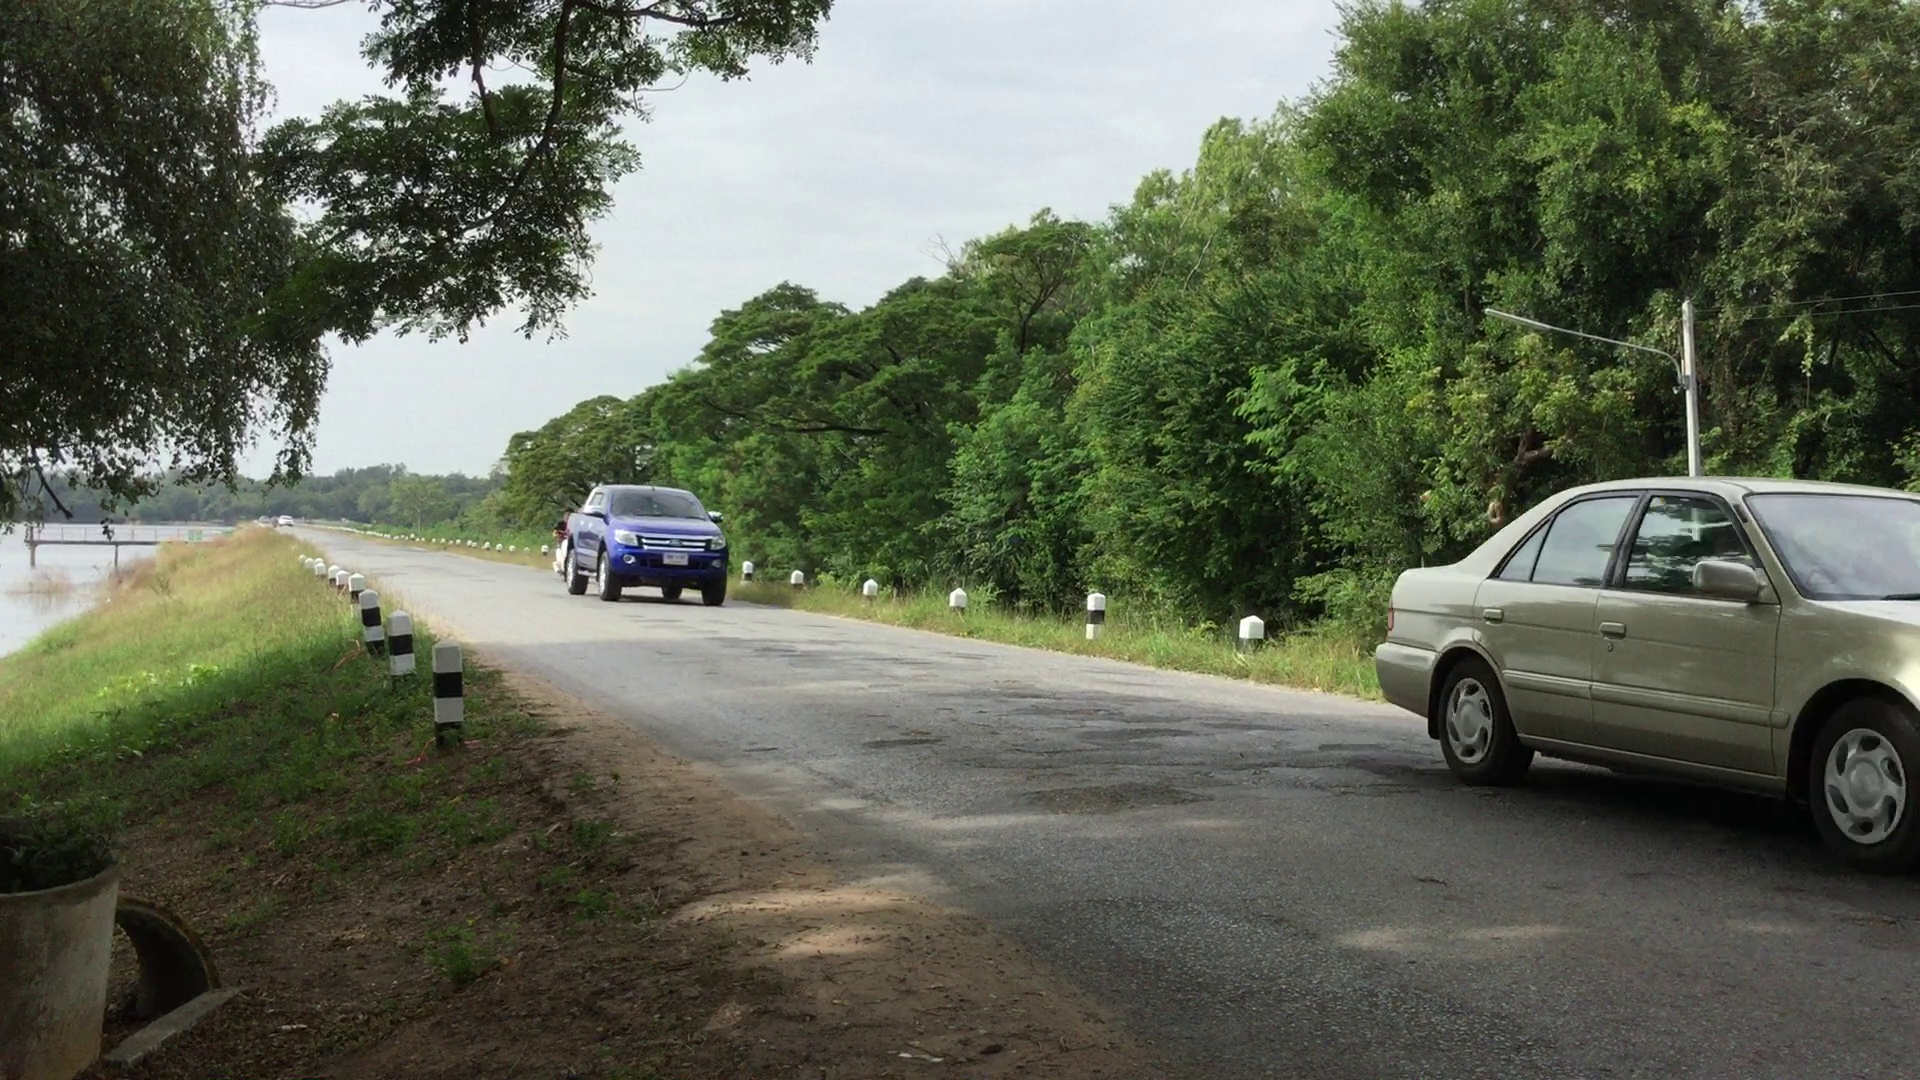car: (1367, 483, 1920, 869), (560, 485, 745, 607)
